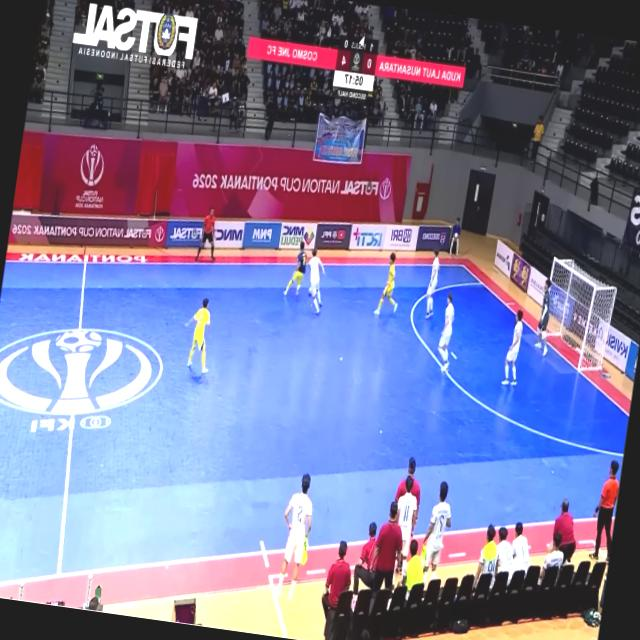keeper: (534, 279, 550, 356), (283, 242, 305, 295)
official: (371, 502, 402, 598), (321, 541, 350, 639), (554, 498, 576, 562), (394, 457, 419, 509)
players: (434, 292, 458, 372), (187, 298, 209, 374), (501, 310, 522, 385), (373, 253, 396, 315), (308, 248, 324, 313), (424, 250, 439, 319)
referee: (590, 460, 619, 560), (195, 209, 214, 261)
